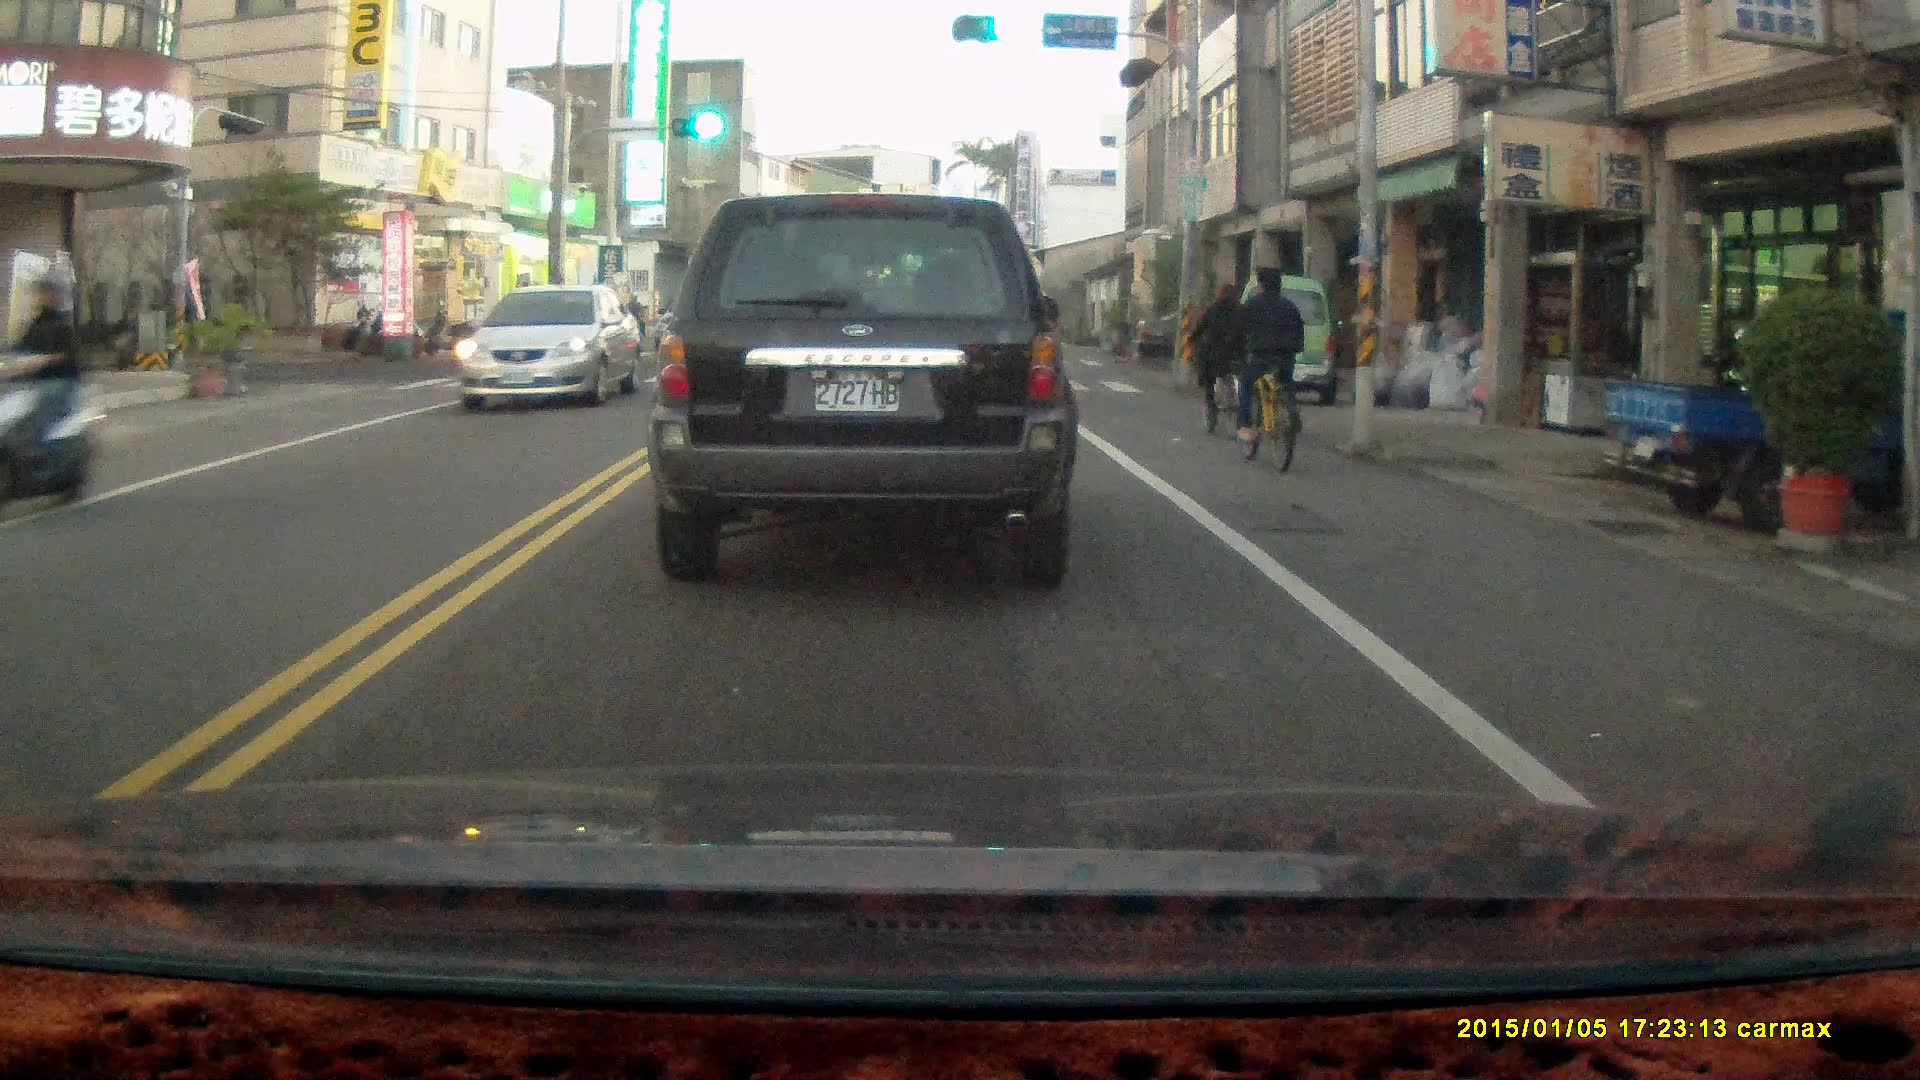rider: (0, 267, 101, 527), (1220, 264, 1304, 473), (1184, 278, 1252, 440), (112, 296, 180, 371)
vehicle: (658, 185, 1078, 581), (453, 284, 642, 410), (1230, 277, 1345, 399)
